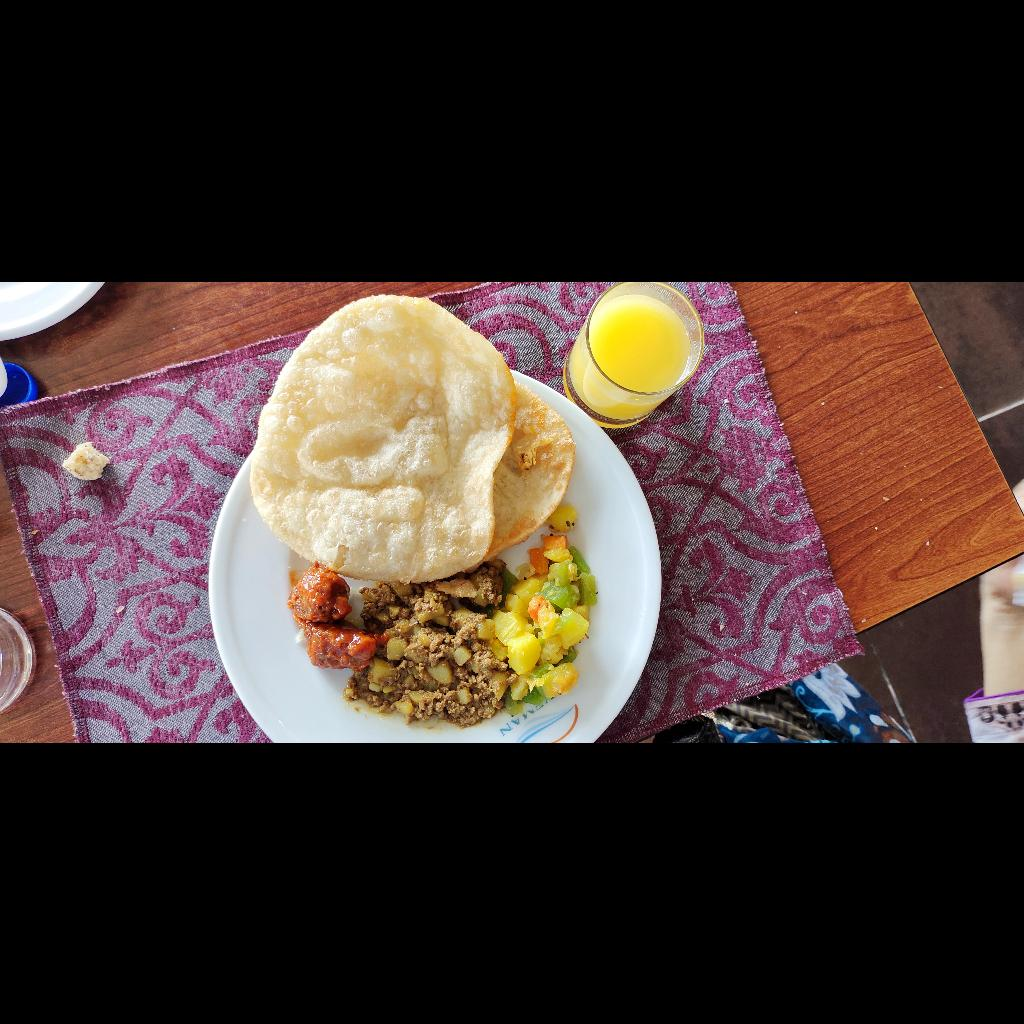chicken: (293, 567, 371, 668)
fish: (346, 559, 508, 729)
juice: (559, 281, 704, 427)
puri: (248, 288, 575, 587)
vegetable: (474, 502, 599, 712)
